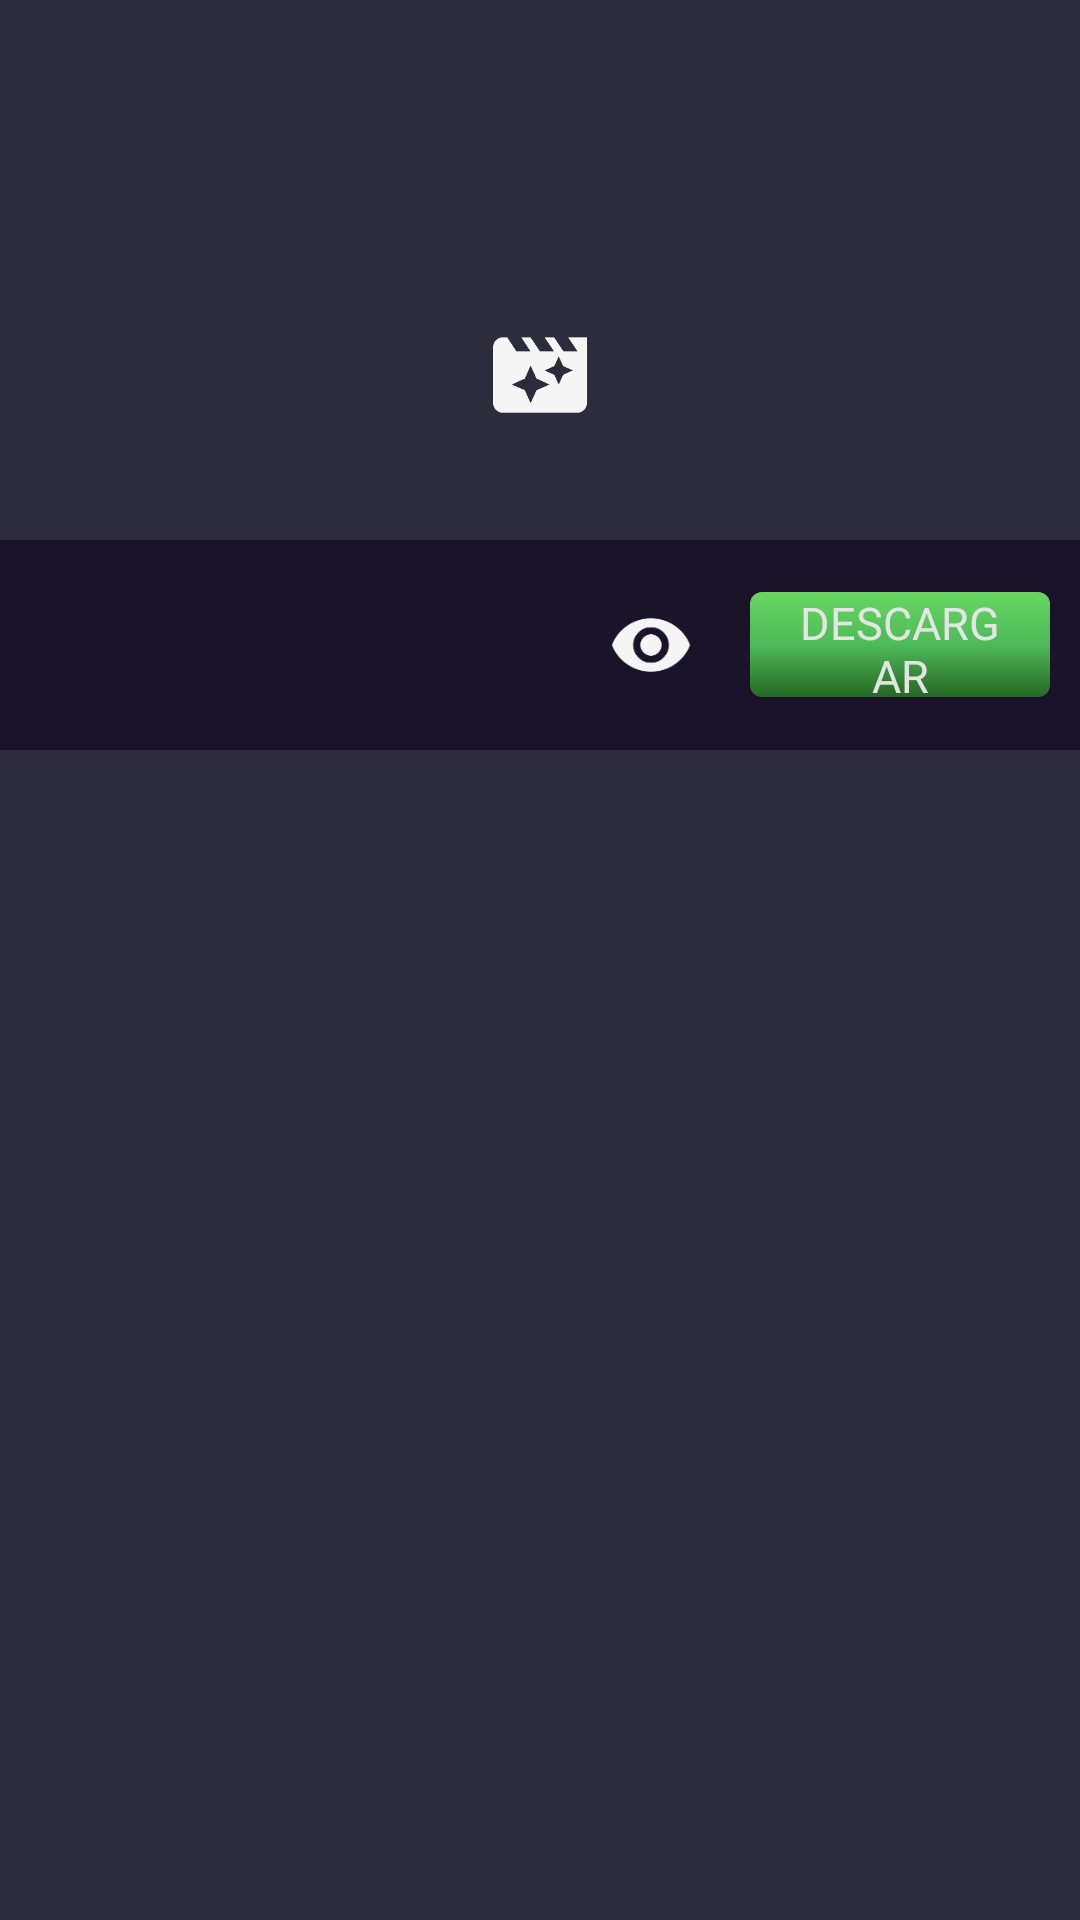

Screen size 1080 × 1920. Icon name, then its center in pixels as (x,y):
eye: (651,645)
movie filter: (540,375)
